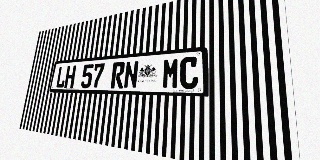5: (80, 64, 94, 88)
7: (91, 63, 105, 88)
C: (179, 56, 198, 89)
H: (64, 65, 76, 88)
L: (55, 66, 67, 88)
M: (162, 58, 180, 89)
N: (123, 61, 139, 89)
R: (110, 62, 125, 88)
